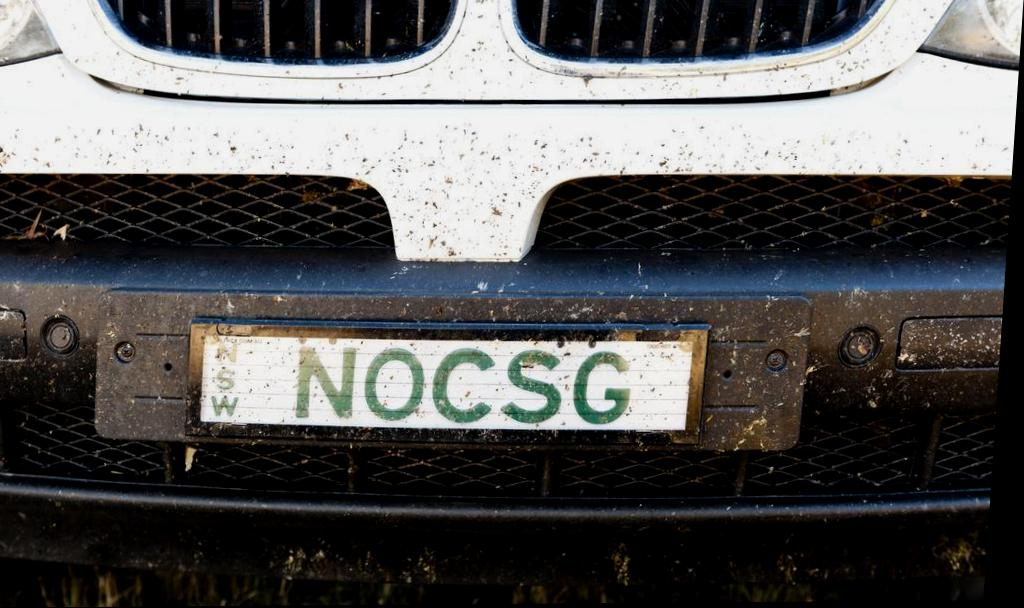License_Plate: (182, 319, 713, 436)
